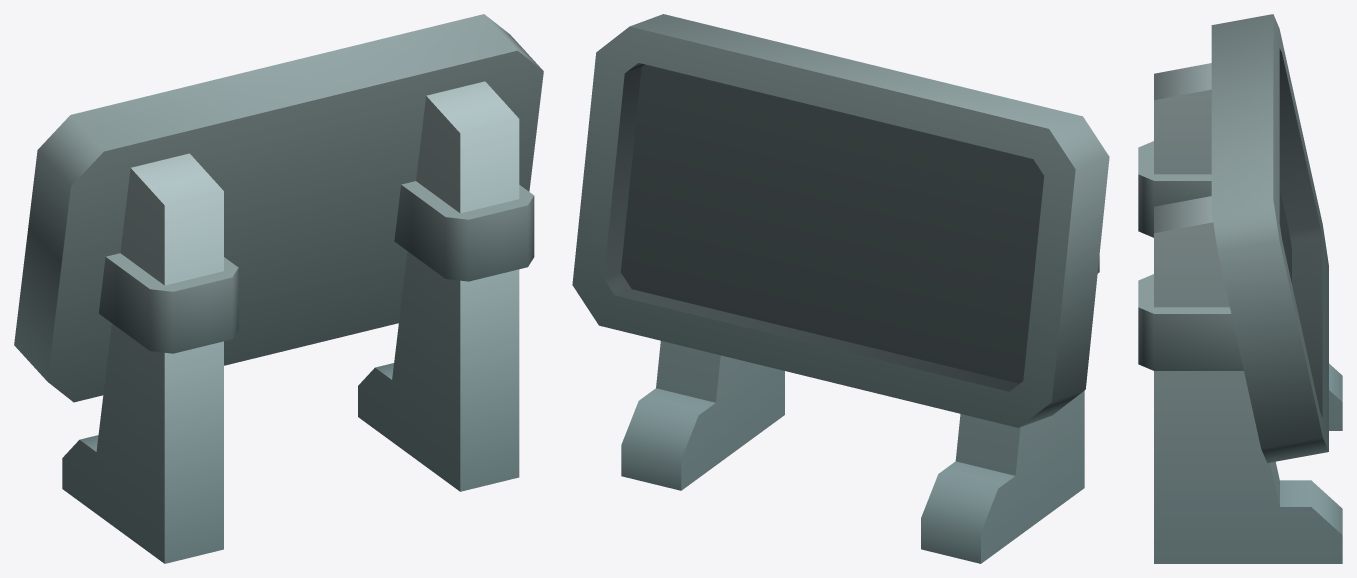
The model's file is screen-wide.glb.
3 views of the same model, side by side, from view 1: azimuth 30°, elevation 25°; view 2: azimuth 150°, elevation 25°; view 3: azimuth 270°, elevation 25° (orthographic). The views are drawn at different scales.
Visible parts, largest first — view 1: screen-wide; view 2: screen-wide; view 3: screen-wide.
Part boxes in pixels (x1,y1,x2,y2): screen-wide: (14, 14, 543, 563); screen-wide: (572, 14, 1109, 563); screen-wide: (1138, 14, 1342, 563).
Bounding box in the file's own units: 1.2 × 0.9913 × 0.4875.
1 material, 1 textured.
